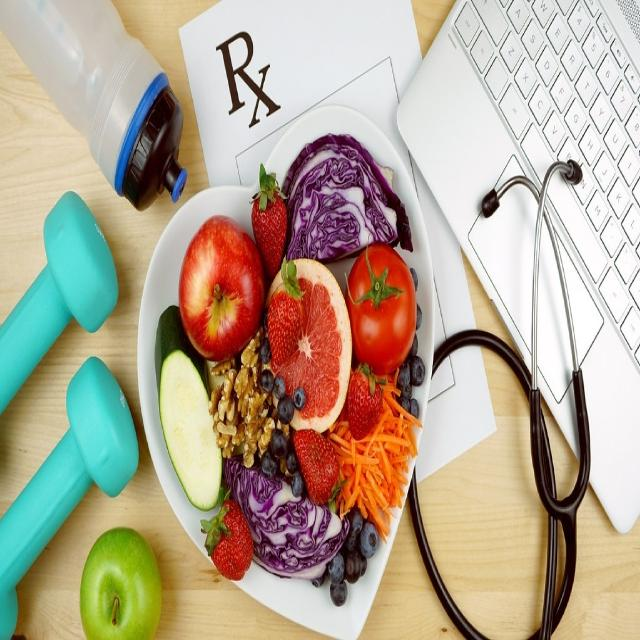Metal: (435, 147, 603, 424)
Plastics: (0, 184, 138, 503), (5, 2, 198, 209)
